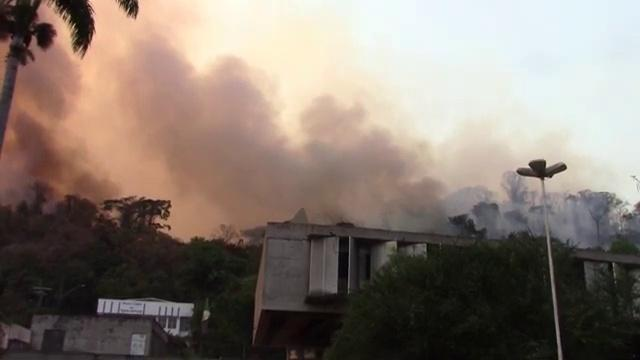smoke: (232, 149, 424, 215)
